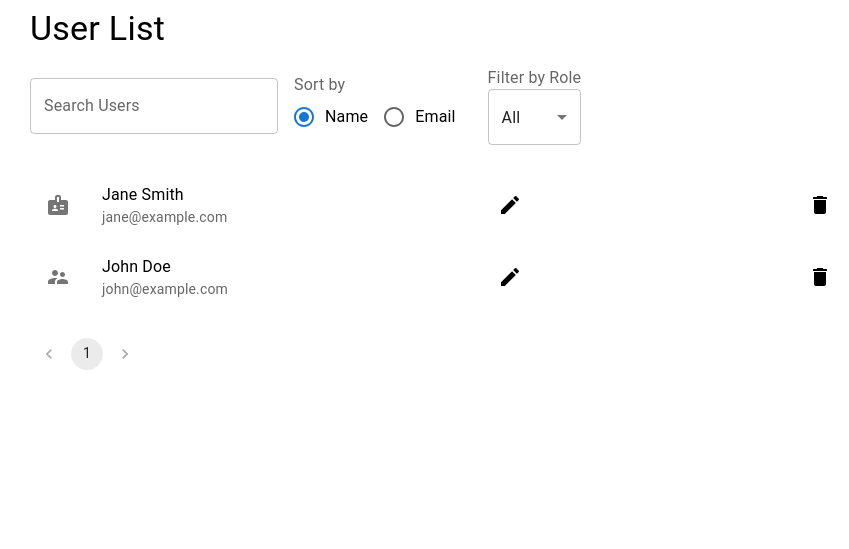
Test: UserEmployeeListMittel Component › should remove a user and show a snackbar
Click the button named "delete-John Doe" at (820,278), box [808,266,832,290]
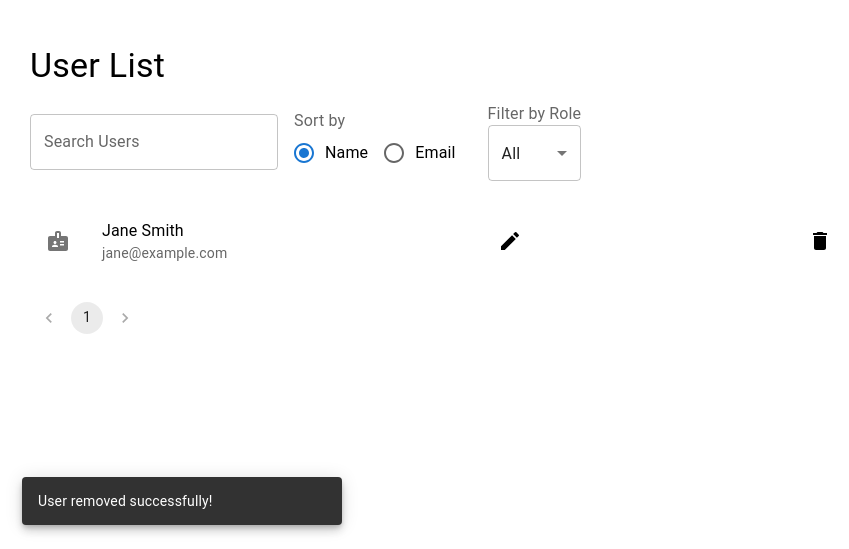
Expected: the text "John Doe" is gone
Expected: the text "User removed successfully!" is shown, [38,493,213,509]
